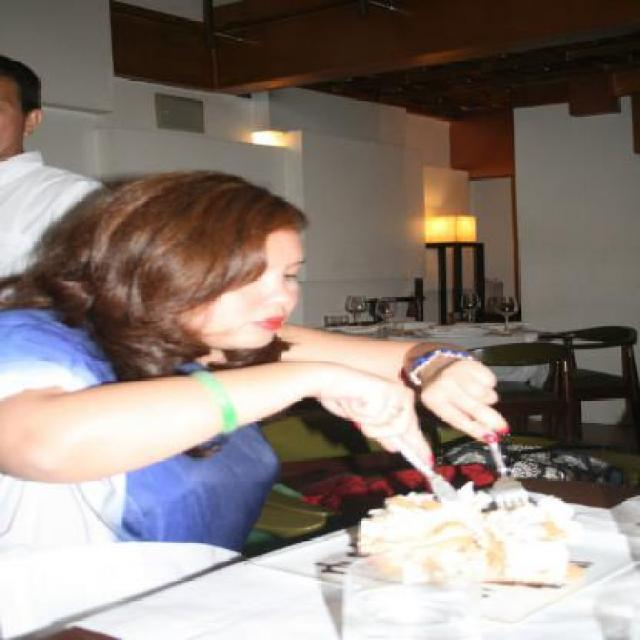Cake: (356, 488, 582, 592)
